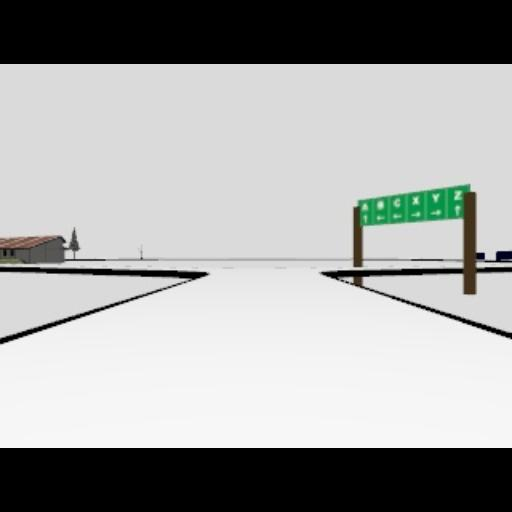A: (361, 202, 369, 212)
B: (377, 200, 385, 210)
C: (393, 198, 401, 208)
Left: (376, 214, 386, 222), (392, 212, 402, 220)
Right: (410, 210, 422, 218), (430, 210, 442, 216)
Straight: (454, 204, 460, 216), (363, 214, 369, 224)
X: (412, 196, 420, 206)
Y: (432, 192, 440, 204)
Z: (453, 190, 463, 200)
